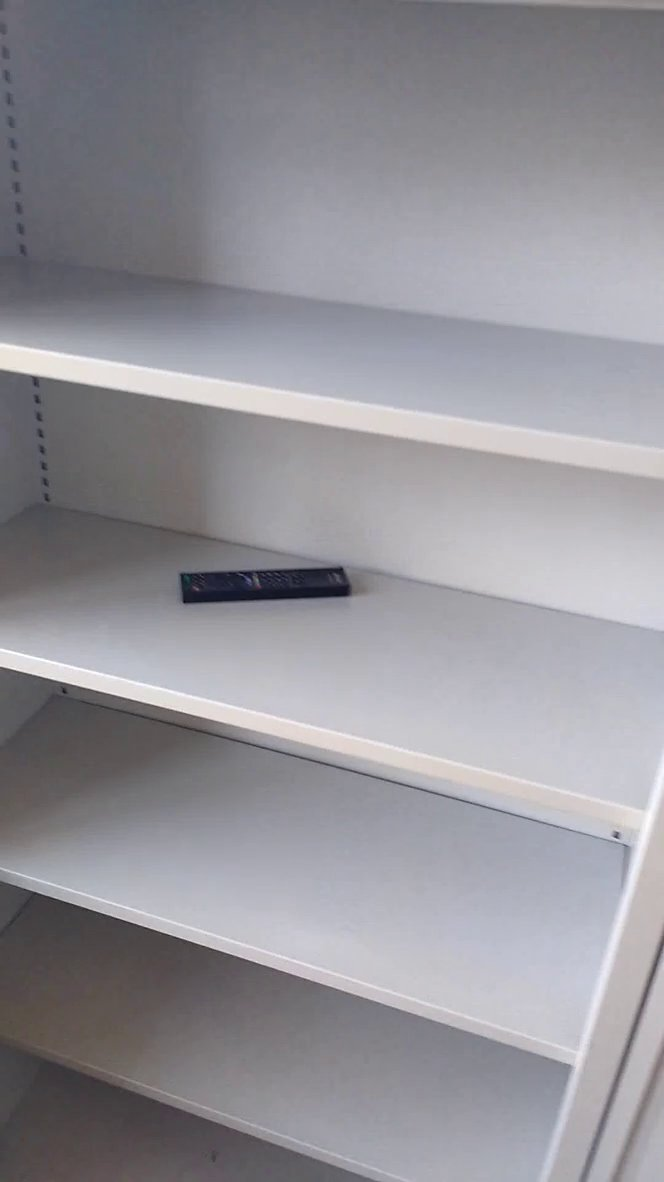remote: (173, 556, 364, 613)
